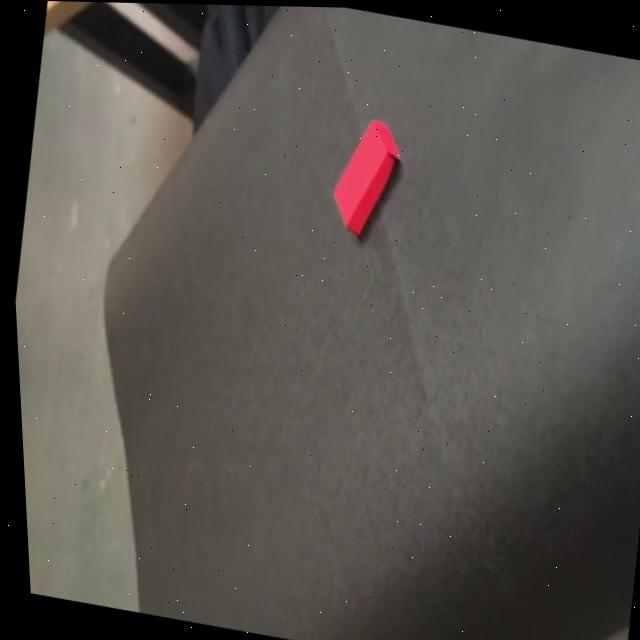red block: (320, 113, 409, 246)
